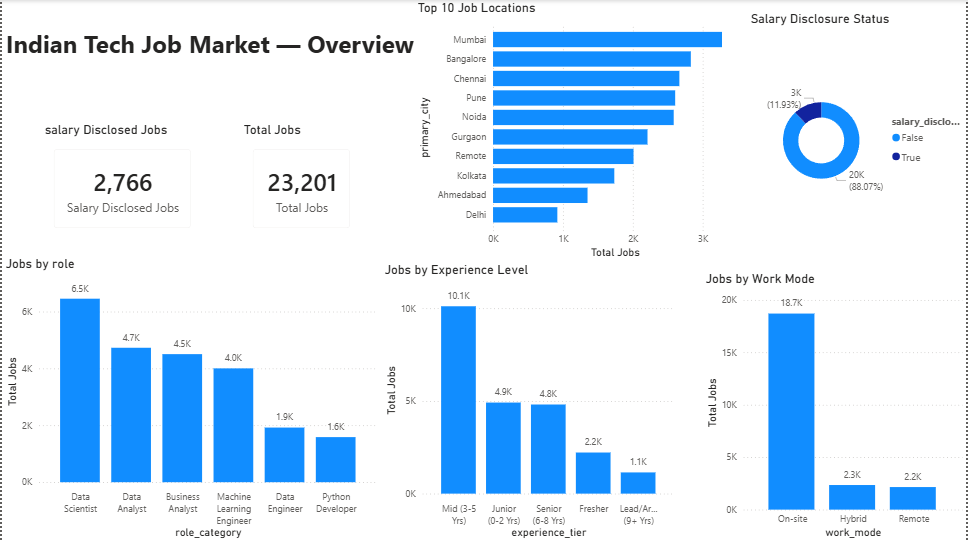

Layout of this report page (visuals, bound fields, positions):
{"tool":"powerbi","page":{"name":"Job Market Overview","canvas":[1280,720],"ordinal":0},"visuals":[{"type":"cardVisual","title":"Total Jobs","fields":{"Data":["jobs_clean.Total Jobs"]},"box":[316.1,162.4,163.9,158],"z":0},{"type":"cardVisual","title":"salary Disclosed Jobs","fields":{"Data":["jobs_clean.Salary Disclosed Jobs"]},"box":[51.2,162.4,216.6,158],"z":1000},{"type":"clusteredColumnChart","title":"Jobs by role","fields":{"Category":["jobs_clean.role_category"],"Y":["jobs_clean.Total Jobs"]},"box":[0,339.5,503.4,380.5],"z":2000},{"type":"clusteredColumnChart","title":"Jobs by Experience Level","fields":{"Category":["jobs_clean.experience_tier"],"Y":["jobs_clean.Total Jobs"]},"box":[503.4,348.3,395.1,371.7],"z":3000},{"type":"clusteredColumnChart","title":"Jobs by Work Mode","fields":{"Category":["jobs_clean.work_mode"],"Y":["jobs_clean.Total Jobs"]},"box":[929.3,360,351.2,360],"z":4000},{"type":"clusteredBarChart","title":"Top 10 Job Locations","fields":{"Category":["jobs_clean.primary_city"],"Y":["jobs_clean.Total Jobs"]},"box":[547.3,0,442,348.3],"z":5000},{"type":"donutChart","title":" Salary Disclosure Status","fields":{"Category":["jobs_clean.salary_disclosed"],"Y":["jobs_clean.Total Jobs"]},"box":[989.3,14.6,291.2,324.9],"z":6000},{"type":"textbox","box":[0,30.7,556.1,121.5],"z":7000}]}

Visuals, with their boxes in screenshot pixels (x1, y1, x2, y2), scaled from the page's 1280x720 canvas onto the 968x542 screenshot:
"Total Jobs" cardVisual: 239 122 363 241
"salary Disclosed Jobs" cardVisual: 39 122 203 241
"Jobs by role" clusteredColumnChart: 0 256 381 541
"Jobs by Experience Level" clusteredColumnChart: 381 262 679 541
"Jobs by Work Mode" clusteredColumnChart: 703 271 967 541
"Top 10 Job Locations" clusteredBarChart: 414 0 748 262
" Salary Disclosure Status" donutChart: 748 11 967 256
textbox: 0 23 421 115
